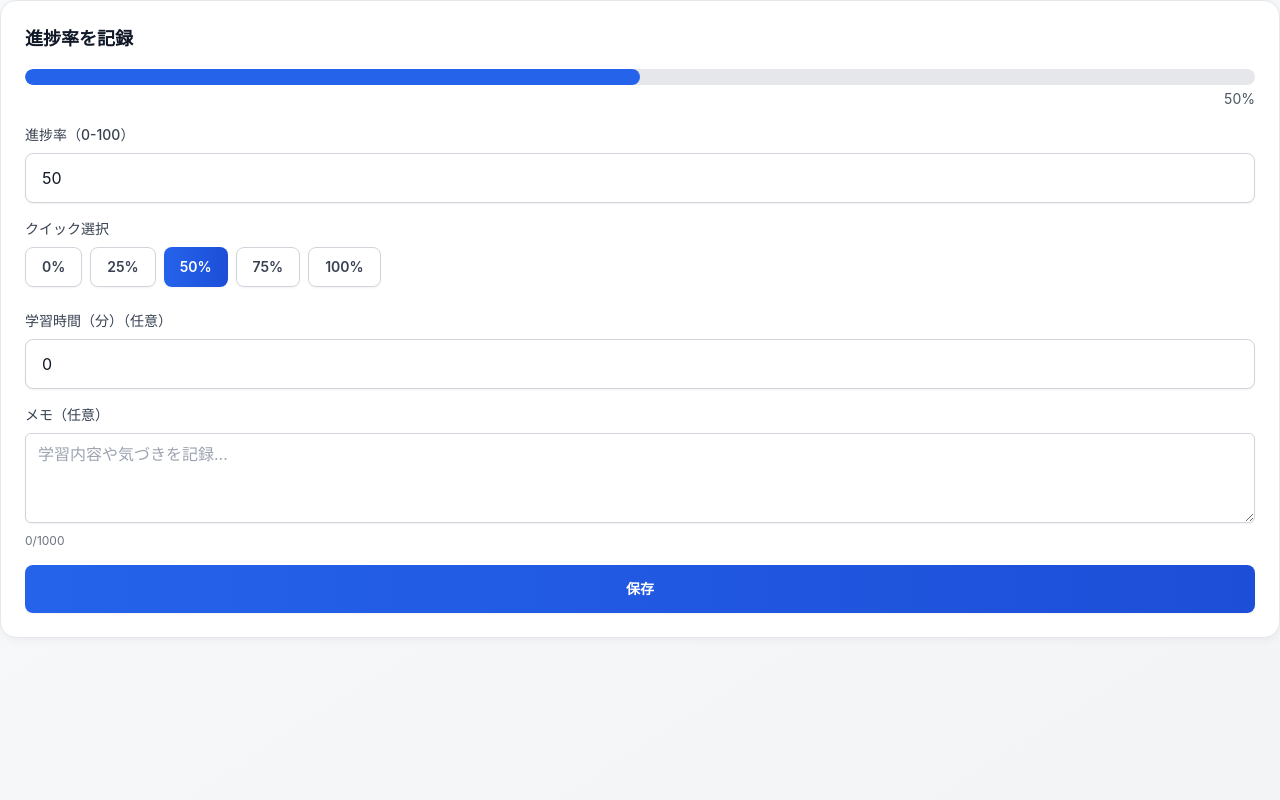
ProgressInputForm › タスク6.1: リアルタイムバリデーション › 100超過の値でエラーメッセージを表示する
This screenshot has width=1280, height=800.
Replace the text in the number field labelled "進捗率（0-100）" with "150". click: (640, 178)
box: [25,153,1255,203]
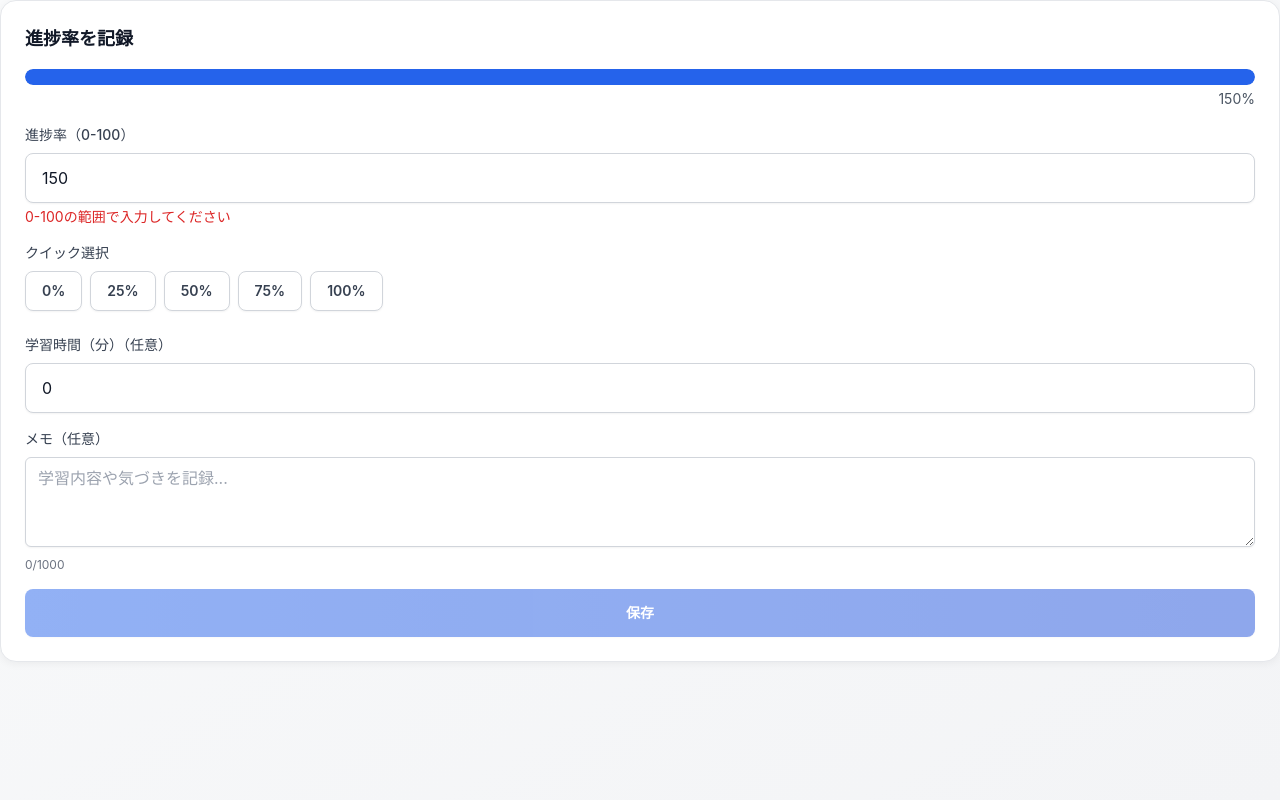
Expected: the text "0-100の範囲で入力してください" is shown, [25,208,231,225]
